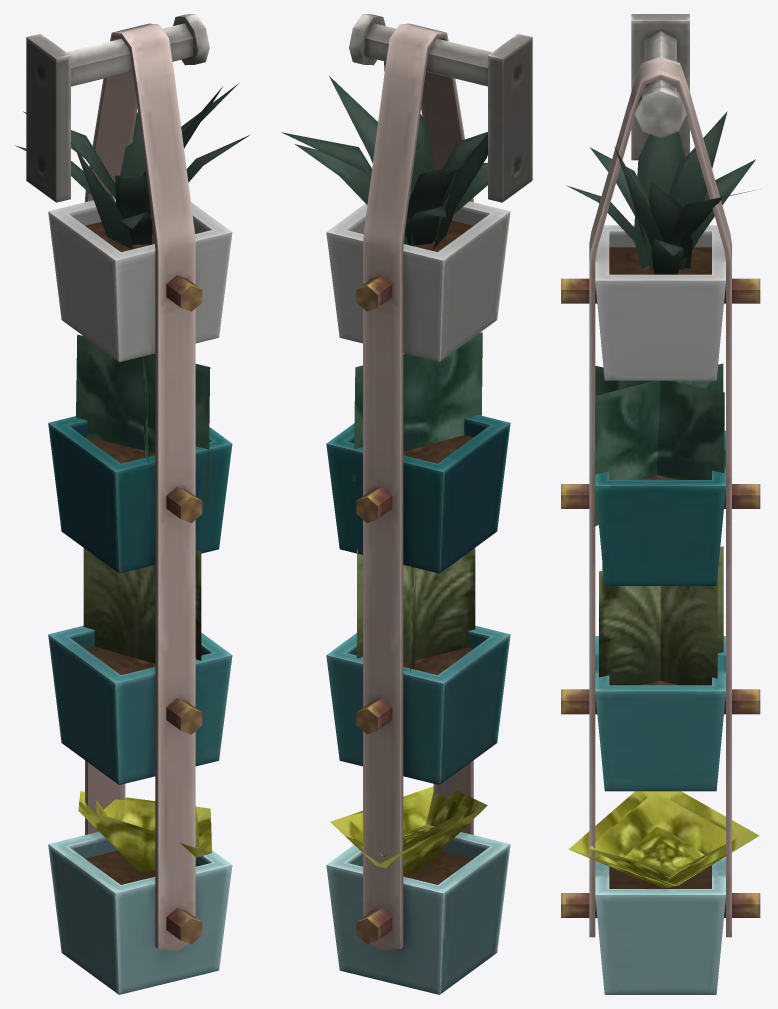
File: tiny_vertical_mini_garden.glb
3 views of the same model, side by side, from view 1: azimuth 30°, elevation 25°; view 2: azimuth 150°, elevation 25°; view 3: azimuth 270°, elevation 25° (orthographic). The views are drawn at different scales.
Visible parts, largest first — view 1: TinyLiving_VerticalMiniGarden_27; view 2: TinyLiving_VerticalMiniGarden_27; view 3: TinyLiving_VerticalMiniGarden_27.
Boxes of the visible parts, bbox=[...] form: TinyLiving_VerticalMiniGarden_27: bbox=[15, 14, 250, 994]; TinyLiving_VerticalMiniGarden_27: bbox=[281, 14, 532, 994]; TinyLiving_VerticalMiniGarden_27: bbox=[561, 14, 760, 994].
Bounding box in the file's own units: 0.2976 × 1.23 × 0.2483.
Materials: 1 (1 with a texture image).
